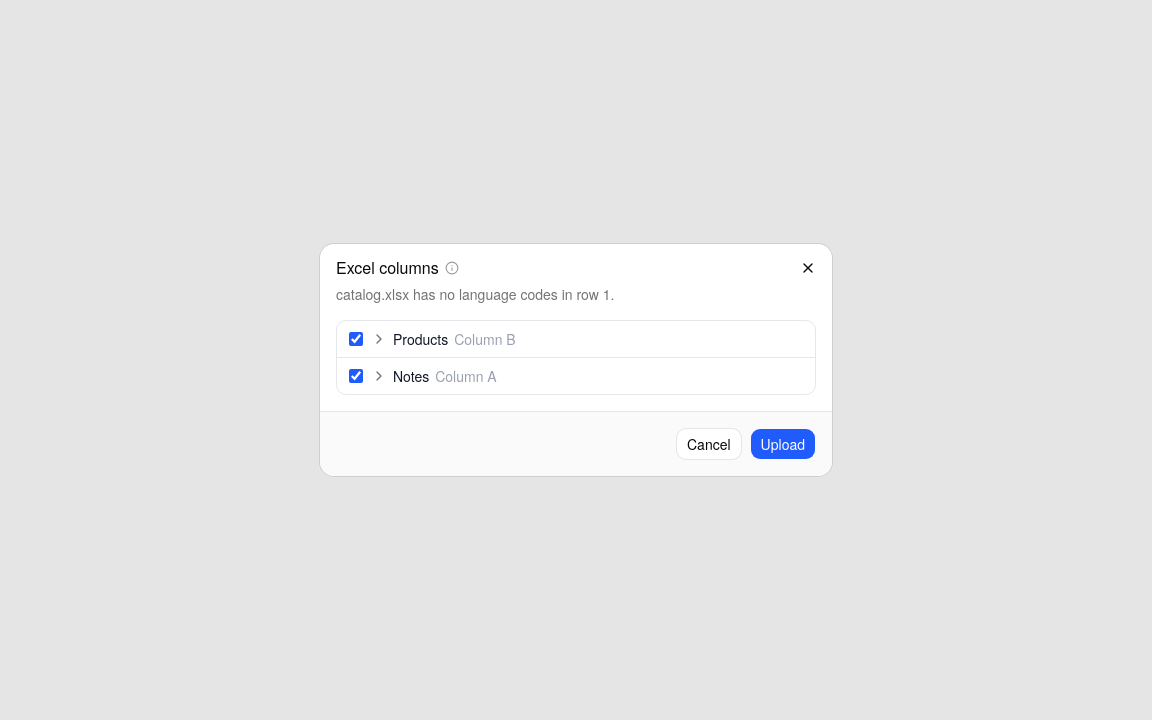
Test: XLSXLayoutDialog › labels each column with its row 1 text
Click the button with test id "xlsx-sheet-Products-toggle" at (443, 339), box x1=371 y1=329 x2=516 y2=349
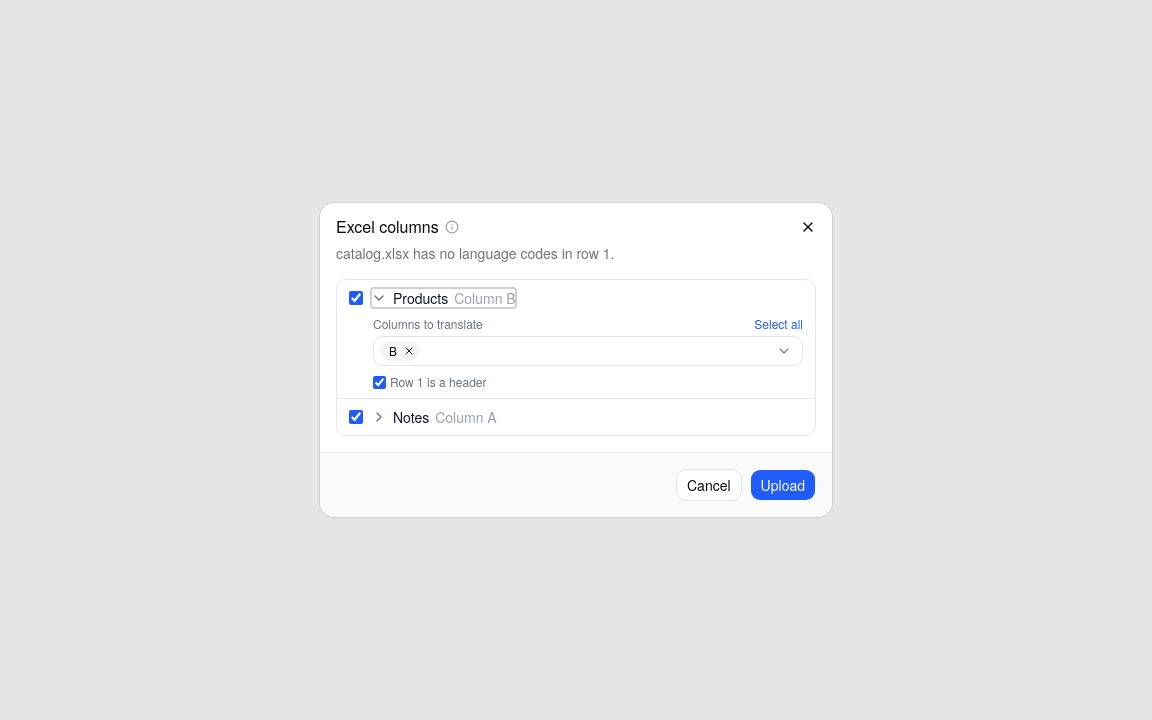
Click the button with test id "xlsx-sheet-Products-columns" at (400, 351), box x1=373 y1=336 x2=803 y2=366
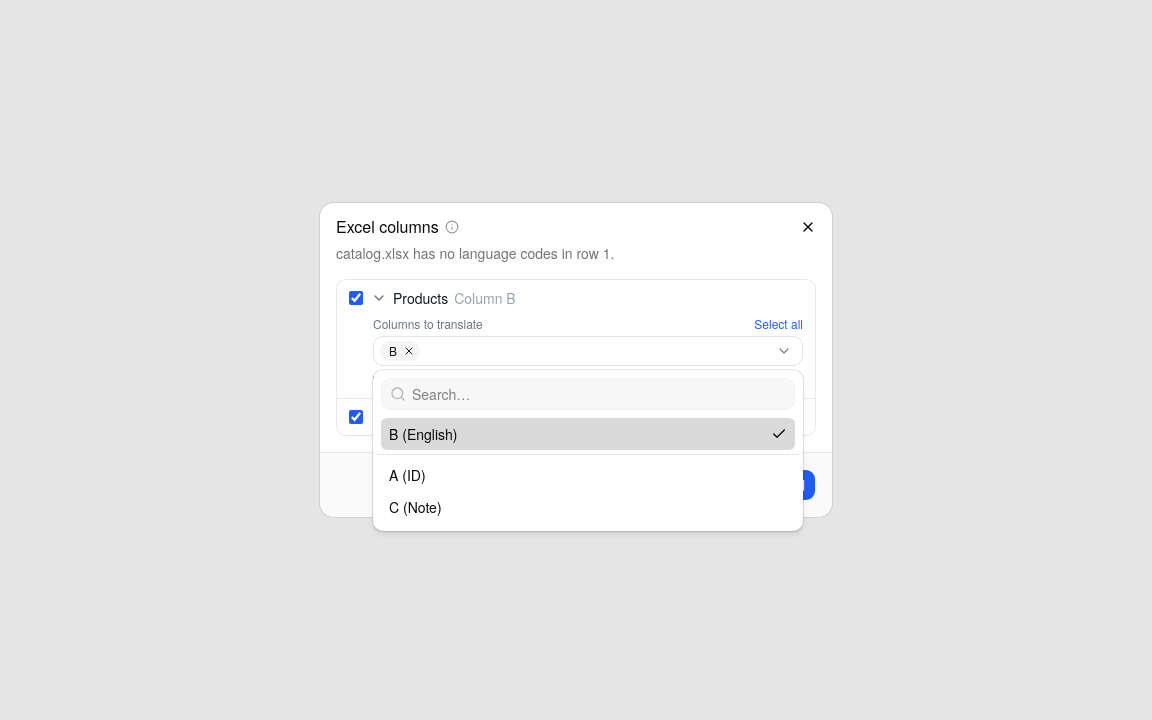
Result: the option with test id "xlsx-sheet-Products-columns-option-A" reads "A (ID)" at x1=389 y1=465 x2=426 y2=485
Result: the option with test id "xlsx-sheet-Products-columns-option-C" reads "C (Note)" at x1=389 y1=497 x2=442 y2=517
